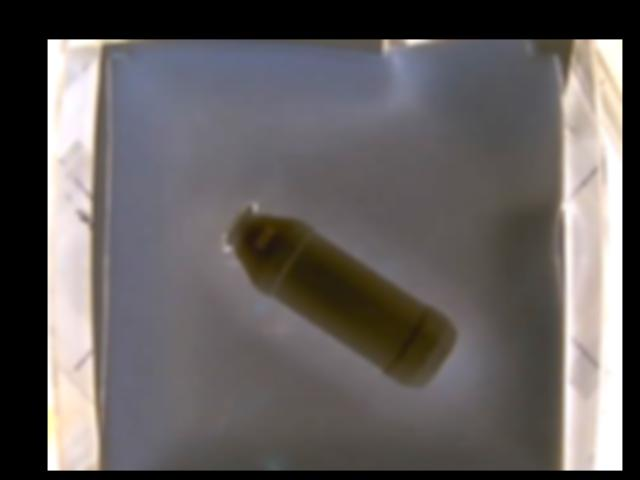Bottle: (220, 200, 456, 388)
